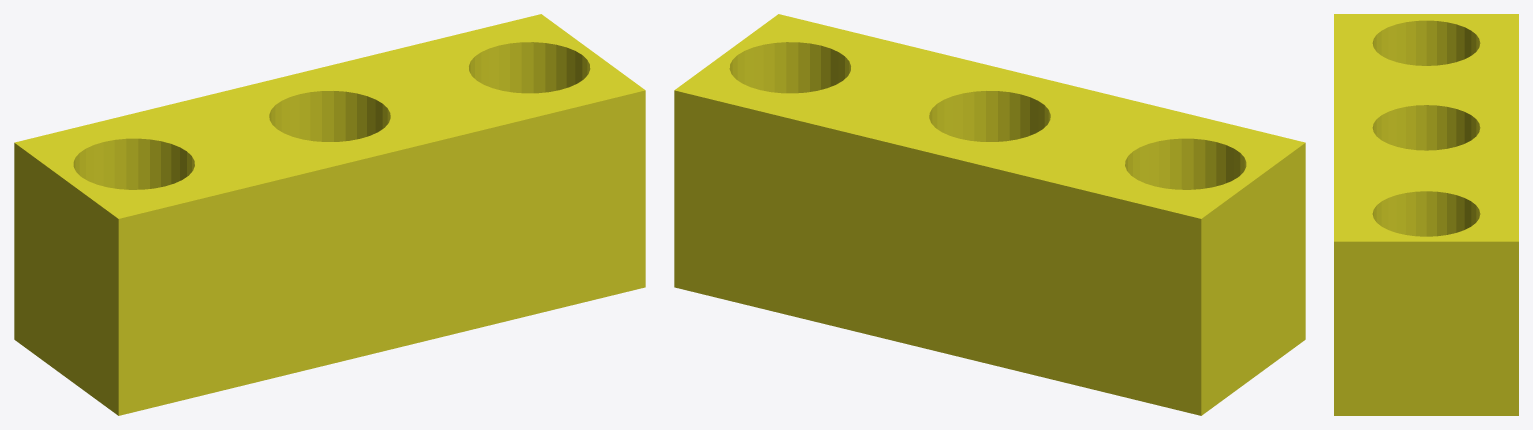
3 views of the same model, side by side, from view 1: azimuth 30°, elevation 25°; view 2: azimuth 150°, elevation 25°; view 3: azimuth 270°, elevation 25° (orthographic). The views are drawn at different scales.
Visible parts, largest first — view 1: Cube.007; view 2: Cube.007; view 3: Cube.007.
Part boxes in pixels (left/top/right/bottom): Cube.007: left=14, top=14, right=645, bottom=415; Cube.007: left=674, top=14, right=1305, bottom=415; Cube.007: left=1334, top=14, right=1518, bottom=415.
Size of the model in its own units: 0.35 by 0.125 by 0.12.
